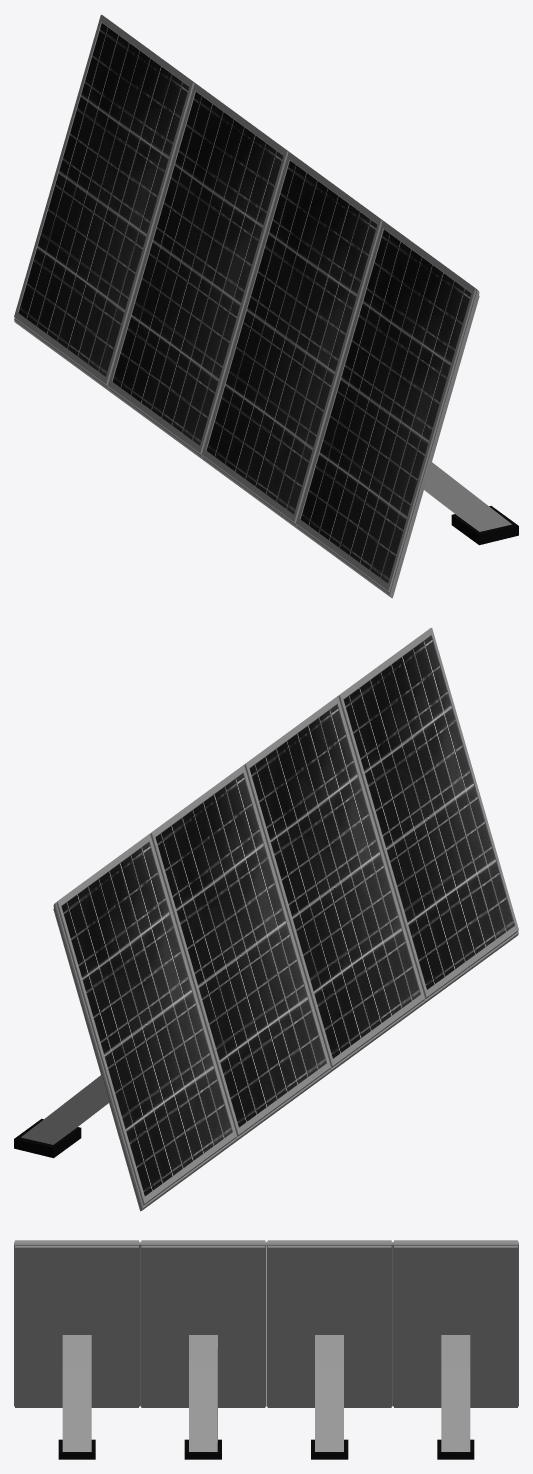
File: groundPanelM90.glb
3 renders of one model, top to bottom at view 1: azimuth 30°, elevation 25°; view 2: azimuth 150°, elevation 25°; view 3: azimuth 270°, elevation 25°, orthographic. The views are drawn at different scales.
Parts seen in each view (by area): view 1: objSolar.004, objSolar.003, objSolar.002, objSolar.001; view 2: objSolar.001, objSolar.002, objSolar.003, objSolar.004; view 3: objSolar.001, objSolar.004, objSolar.002, objSolar.003.
Boxes of the visible parts, x1,y1,x2,y2 form: objSolar.004: [296, 221, 518, 598]; objSolar.003: [202, 152, 383, 528]; objSolar.002: [108, 83, 289, 460]; objSolar.001: [14, 15, 195, 390]; objSolar.001: [14, 834, 236, 1211]; objSolar.002: [149, 765, 330, 1141]; objSolar.003: [243, 696, 424, 1073]; objSolar.004: [337, 628, 518, 1003]; objSolar.001: [392, 1240, 518, 1459]; objSolar.004: [14, 1240, 140, 1459]; objSolar.002: [266, 1240, 392, 1459]; objSolar.003: [140, 1240, 266, 1459].
Bounding box in the file's own units: 1 × 1.7 × 4.
3 materials, 1 textured.
